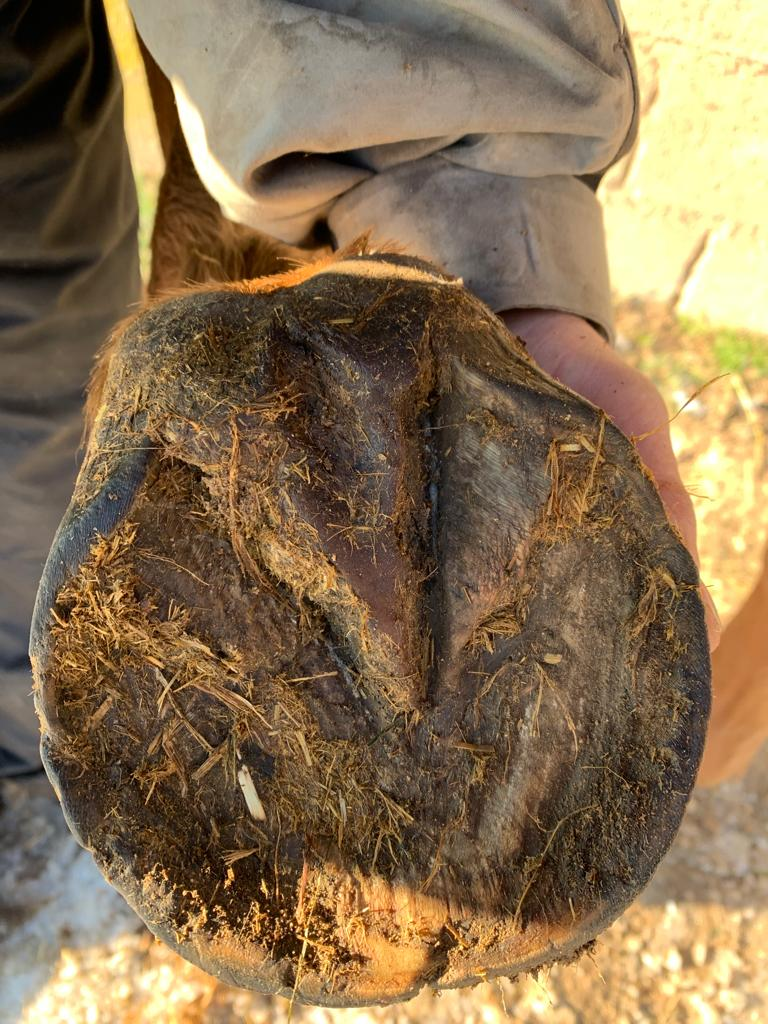horsesole: (27, 351, 711, 1008)
